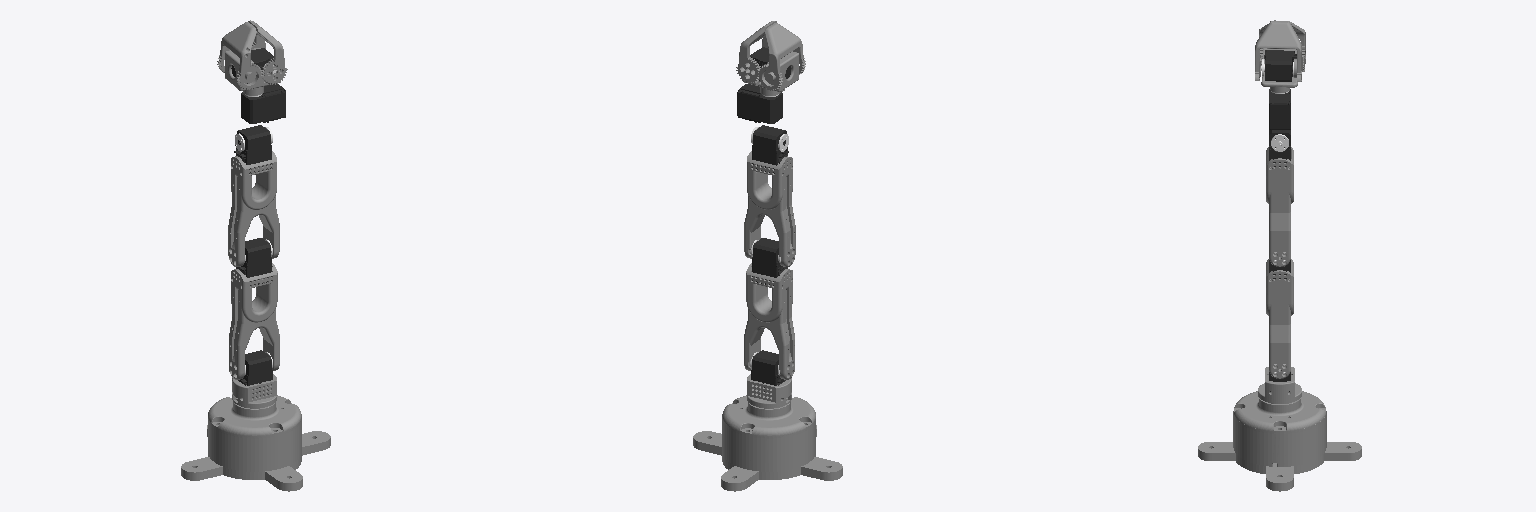
The robot description file, URDF, robot "robot_urdf":
<?xml version="1.0" ?>
<!-- Generated using onshape-to-robot -->
<!-- Onshape https://cad.onshape.com/documents/b1be9314d341256813a88427/w/ef79e5b8cf85c1610447e659/e/989417b967111cc75a0644fe -->
<robot name="robot_urdf">

  <mujoco>
    <compiler meshdir="assets/" strippath="false" fusestatic="false"/>
  </mujoco>

  <!-- Link base_assembly -->
  <link name="base_assembly">
    <inertial>
      <origin xyz="0 0 0" rpy="0 0 0"/>
      <mass value="1e-09"/>
      <inertia ixx="1e-09" ixy="0" ixz="0" iyy="1e-09" iyz="0" izz="1e-09"/>
    </inertial>
    <!-- Part base_top -->
    <visual>
      <origin xyz="0.0125 0 0.05" rpy="0 -0 0"/>
      <geometry>
        <mesh filename="base_top.stl"/>
      </geometry>
      <material name="base_top_material">
        <color rgba="0.627451 0.627451 0.627451 1"/>
      </material>
    </visual>
    <collision>
      <origin xyz="0.0125 0 0.05" rpy="0 -0 0"/>
      <geometry>
        <mesh filename="base_top.stl"/>
      </geometry>
    </collision>
    <!-- Part ac1 -->
    <visual>
      <origin xyz="0.0125 0 0.0351" rpy="-0 0 -3.14159"/>
      <geometry>
        <mesh filename="ac1.stl"/>
      </geometry>
      <material name="ac1_material">
        <color rgba="0.960784 0.960784 0.964706 1"/>
      </material>
    </visual>
    <collision>
      <origin xyz="0.0125 0 0.0351" rpy="-0 0 -3.14159"/>
      <geometry>
        <mesh filename="ac1.stl"/>
      </geometry>
    </collision>
    <!-- Part base_plate -->
    <visual>
      <origin xyz="0 0 0" rpy="0 -0 0"/>
      <geometry>
        <mesh filename="base_plate.stl"/>
      </geometry>
      <material name="base_plate_material">
        <color rgba="0.627451 0.627451 0.627451 1"/>
      </material>
    </visual>
    <collision>
      <origin xyz="0 0 0" rpy="0 -0 0"/>
      <geometry>
        <mesh filename="base_plate.stl"/>
      </geometry>
    </collision>
    <!-- Part base_link -->
    <visual>
      <origin xyz="0.0125 0 0" rpy="0 -0 0"/>
      <geometry>
        <mesh filename="base_link.stl"/>
      </geometry>
      <material name="base_link_material">
        <color rgba="0.627451 0.627451 0.627451 1"/>
      </material>
    </visual>
    <collision>
      <origin xyz="0.0125 0 0" rpy="0 -0 0"/>
      <geometry>
        <mesh filename="base_link.stl"/>
      </geometry>
    </collision>
    <!-- Part main -->
    <visual>
      <origin xyz="0.0125 0 0.0339" rpy="0 -0 3.14159"/>
      <geometry>
        <mesh filename="main.stl"/>
      </geometry>
      <material name="main_material">
        <color rgba="0.247059 0.247059 0.247059 1"/>
      </material>
    </visual>
    <collision>
      <origin xyz="0.0125 0 0.0339" rpy="0 -0 3.14159"/>
      <geometry>
        <mesh filename="main.stl"/>
      </geometry>
    </collision>
  </link>
  <!-- Link shoulder_assmebly -->
  <link name="shoulder_assmebly">
    <inertial>
      <origin xyz="0 0 0" rpy="0 0 0"/>
      <mass value="1e-09"/>
      <inertia ixx="1e-09" ixy="0" ixz="0" iyy="1e-09" iyz="0" izz="1e-09"/>
    </inertial>
    <!-- Part base_joint -->
    <visual>
      <origin xyz="0 -0 0" rpy="-3.14159 -0 3.14159"/>
      <geometry>
        <mesh filename="base_joint.stl"/>
      </geometry>
      <material name="base_joint_material">
        <color rgba="0.627451 0.627451 0.627451 1"/>
      </material>
    </visual>
    <collision>
      <origin xyz="0 -0 0" rpy="-3.14159 -0 3.14159"/>
      <geometry>
        <mesh filename="base_joint.stl"/>
      </geometry>
    </collision>
    <!-- Part main_2 -->
    <visual>
      <origin xyz="0.00015 -0 -0.04896" rpy="-3.14159 1.5708 0"/>
      <geometry>
        <mesh filename="main.stl"/>
      </geometry>
      <material name="main_2_material">
        <color rgba="0.247059 0.247059 0.247059 1"/>
      </material>
    </visual>
    <collision>
      <origin xyz="0.00015 -0 -0.04896" rpy="-3.14159 1.5708 0"/>
      <geometry>
        <mesh filename="main.stl"/>
      </geometry>
    </collision>
    <!-- Part ac2 -->
    <visual>
      <origin xyz="0.00075 -0 -0.04896" rpy="-3.14159 1.5708 0"/>
      <geometry>
        <mesh filename="ac2.stl"/>
      </geometry>
      <material name="ac2_material">
        <color rgba="0.960784 0.960784 0.964706 1"/>
      </material>
    </visual>
    <collision>
      <origin xyz="0.00075 -0 -0.04896" rpy="-3.14159 1.5708 0"/>
      <geometry>
        <mesh filename="ac2.stl"/>
      </geometry>
    </collision>
    <!-- Part shoulder_link -->
    <visual>
      <origin xyz="0 -0 -0.0193" rpy="-3.14159 0 3.14159"/>
      <geometry>
        <mesh filename="shoulder_link.stl"/>
      </geometry>
      <material name="shoulder_link_material">
        <color rgba="0.627451 0.627451 0.627451 1"/>
      </material>
    </visual>
    <collision>
      <origin xyz="0 -0 -0.0193" rpy="-3.14159 0 3.14159"/>
      <geometry>
        <mesh filename="shoulder_link.stl"/>
      </geometry>
    </collision>
    <!-- Part ac1_2 -->
    <visual>
      <origin xyz="0.0002 -0 -0.04896" rpy="-3.14159 1.5708 0"/>
      <geometry>
        <mesh filename="ac1.stl"/>
      </geometry>
      <material name="ac1_2_material">
        <color rgba="0.960784 0.960784 0.964706 1"/>
      </material>
    </visual>
    <collision>
      <origin xyz="0.0002 -0 -0.04896" rpy="-3.14159 1.5708 0"/>
      <geometry>
        <mesh filename="ac1.stl"/>
      </geometry>
    </collision>
  </link>
  <!-- Link arm_link_assembly -->
  <link name="arm_link_assembly">
    <inertial>
      <origin xyz="0 0 0" rpy="0 0 0"/>
      <mass value="1e-09"/>
      <inertia ixx="1e-09" ixy="0" ixz="0" iyy="1e-09" iyz="0" izz="1e-09"/>
    </inertial>
    <!-- Part ac1_3 -->
    <visual>
      <origin xyz="0.1227 -8.02902e-05 -0.000296447" rpy="-0 0 0"/>
      <geometry>
        <mesh filename="ac1.stl"/>
      </geometry>
      <material name="ac1_3_material">
        <color rgba="0.960784 0.960784 0.964706 1"/>
      </material>
    </visual>
    <collision>
      <origin xyz="0.1227 -8.02902e-05 -0.000296447" rpy="-0 0 0"/>
      <geometry>
        <mesh filename="ac1.stl"/>
      </geometry>
    </collision>
    <!-- Part main_3 -->
    <visual>
      <origin xyz="0.1227 -8.02902e-05 -0.000246447" rpy="-0 0 0"/>
      <geometry>
        <mesh filename="main.stl"/>
      </geometry>
      <material name="main_3_material">
        <color rgba="0.247059 0.247059 0.247059 1"/>
      </material>
    </visual>
    <collision>
      <origin xyz="0.1227 -8.02902e-05 -0.000246447" rpy="-0 0 0"/>
      <geometry>
        <mesh filename="main.stl"/>
      </geometry>
    </collision>
    <!-- Part arm_link -->
    <visual>
      <origin xyz="0.053 -0.012 -9.64466e-05" rpy="-1.5708 -0 0"/>
      <geometry>
        <mesh filename="arm_link.stl"/>
      </geometry>
      <material name="arm_link_material">
        <color rgba="0.627451 0.627451 0.627451 1"/>
      </material>
    </visual>
    <collision>
      <origin xyz="0.053 -0.012 -9.64466e-05" rpy="-1.5708 -0 0"/>
      <geometry>
        <mesh filename="arm_link.stl"/>
      </geometry>
    </collision>
    <!-- Part ac2_2 -->
    <visual>
      <origin xyz="0.1227 -8.02902e-05 -0.000846447" rpy="-0 0 0"/>
      <geometry>
        <mesh filename="ac2.stl"/>
      </geometry>
      <material name="ac2_2_material">
        <color rgba="0.960784 0.960784 0.964706 1"/>
      </material>
    </visual>
    <collision>
      <origin xyz="0.1227 -8.02902e-05 -0.000846447" rpy="-0 0 0"/>
      <geometry>
        <mesh filename="ac2.stl"/>
      </geometry>
    </collision>
  </link>
  <!-- Link arm_link_assembly_2 -->
  <link name="arm_link_assembly_2">
    <inertial>
      <origin xyz="0 0 0" rpy="0 0 0"/>
      <mass value="1e-09"/>
      <inertia ixx="1e-09" ixy="0" ixz="0" iyy="1e-09" iyz="0" izz="1e-09"/>
    </inertial>
    <!-- Part ac1_4 -->
    <visual>
      <origin xyz="0.1227 -8.02902e-05 3.44557e-05" rpy="0 -0 0"/>
      <geometry>
        <mesh filename="ac1.stl"/>
      </geometry>
      <material name="ac1_4_material">
        <color rgba="0.960784 0.960784 0.964706 1"/>
      </material>
    </visual>
    <collision>
      <origin xyz="0.1227 -8.02902e-05 3.44557e-05" rpy="0 -0 0"/>
      <geometry>
        <mesh filename="ac1.stl"/>
      </geometry>
    </collision>
    <!-- Part main_4 -->
    <visual>
      <origin xyz="0.1227 -8.02902e-05 8.44557e-05" rpy="-0 -0 0"/>
      <geometry>
        <mesh filename="main.stl"/>
      </geometry>
      <material name="main_4_material">
        <color rgba="0.247059 0.247059 0.247059 1"/>
      </material>
    </visual>
    <collision>
      <origin xyz="0.1227 -8.02902e-05 8.44557e-05" rpy="-0 -0 0"/>
      <geometry>
        <mesh filename="main.stl"/>
      </geometry>
    </collision>
    <!-- Part arm_link_2 -->
    <visual>
      <origin xyz="0.053 -0.012 0.000234456" rpy="-1.5708 -0 0"/>
      <geometry>
        <mesh filename="arm_link.stl"/>
      </geometry>
      <material name="arm_link_2_material">
        <color rgba="0.627451 0.627451 0.627451 1"/>
      </material>
    </visual>
    <collision>
      <origin xyz="0.053 -0.012 0.000234456" rpy="-1.5708 -0 0"/>
      <geometry>
        <mesh filename="arm_link.stl"/>
      </geometry>
    </collision>
    <!-- Part ac2_3 -->
    <visual>
      <origin xyz="0.1227 -8.02902e-05 -0.000515544" rpy="0 -0 0"/>
      <geometry>
        <mesh filename="ac2.stl"/>
      </geometry>
      <material name="ac2_3_material">
        <color rgba="0.960784 0.960784 0.964706 1"/>
      </material>
    </visual>
    <collision>
      <origin xyz="0.1227 -8.02902e-05 -0.000515544" rpy="0 -0 0"/>
      <geometry>
        <mesh filename="ac2.stl"/>
      </geometry>
    </collision>
  </link>
  <!-- Link wrist_assembly -->
  <link name="wrist_assembly">
    <inertial>
      <origin xyz="0 0 0" rpy="0 0 0"/>
      <mass value="1e-09"/>
      <inertia ixx="1e-09" ixy="0" ixz="0" iyy="1e-09" iyz="0" izz="1e-09"/>
    </inertial>
    <!-- Part ac1_5 -->
    <visual>
      <origin xyz="0.0389 0.00681535 -0.0104786" rpy="-1.5708 -0.994135 -1.5708"/>
      <geometry>
        <mesh filename="ac1.stl"/>
      </geometry>
      <material name="ac1_5_material">
        <color rgba="0.960784 0.960784 0.964706 1"/>
      </material>
    </visual>
    <collision>
      <origin xyz="0.0389 0.00681535 -0.0104786" rpy="-1.5708 -0.994135 -1.5708"/>
      <geometry>
        <mesh filename="ac1.stl"/>
      </geometry>
    </collision>
    <!-- Part wrist_link___recovered -->
    <visual>
      <origin xyz="0.055 -0.012 0" rpy="-1.5708 -0 0"/>
      <geometry>
        <mesh filename="wrist_link___recovered.stl"/>
      </geometry>
      <material name="wrist_link___recovered_material">
        <color rgba="0.627451 0.627451 0.627451 1"/>
      </material>
    </visual>
    <collision>
      <origin xyz="0.055 -0.012 0" rpy="-1.5708 -0 0"/>
      <geometry>
        <mesh filename="wrist_link___recovered.stl"/>
      </geometry>
    </collision>
    <!-- Part main_5 -->
    <visual>
      <origin xyz="0.0392 0 -0.0125" rpy="-3.14159 -1.5708 0"/>
      <geometry>
        <mesh filename="main.stl"/>
      </geometry>
      <material name="main_5_material">
        <color rgba="0.247059 0.247059 0.247059 1"/>
      </material>
    </visual>
    <collision>
      <origin xyz="0.0392 0 -0.0125" rpy="-3.14159 -1.5708 0"/>
      <geometry>
        <mesh filename="main.stl"/>
      </geometry>
    </collision>
  </link>
  <!-- Link gripper_assembly -->
  <link name="gripper_assembly">
    <inertial>
      <origin xyz="0 0 0" rpy="0 0 0"/>
      <mass value="1e-09"/>
      <inertia ixx="1e-09" ixy="0" ixz="0" iyy="1e-09" iyz="0" izz="1e-09"/>
    </inertial>
    <!-- Part gripper_base -->
    <visual>
      <origin xyz="-0.0109248 0.0149298 -0.0300671" rpy="1.5708 -0 0.631718"/>
      <geometry>
        <mesh filename="gripper_base.stl"/>
      </geometry>
      <material name="gripper_base_material">
        <color rgba="0.627451 0.627451 0.627451 1"/>
      </material>
    </visual>
    <collision>
      <origin xyz="-0.0109248 0.0149298 -0.0300671" rpy="1.5708 -0 0.631718"/>
      <geometry>
        <mesh filename="gripper_base.stl"/>
      </geometry>
    </collision>
    <!-- Part main_6 -->
    <visual>
      <origin xyz="0.000413372 -0.00056491 -0.0300671" rpy="-1.5708 0 -2.50987"/>
      <geometry>
        <mesh filename="main.stl"/>
      </geometry>
      <material name="main_6_material">
        <color rgba="0.247059 0.247059 0.247059 1"/>
      </material>
    </visual>
    <collision>
      <origin xyz="0.000413372 -0.00056491 -0.0300671" rpy="-1.5708 0 -2.50987"/>
      <geometry>
        <mesh filename="main.stl"/>
      </geometry>
    </collision>
    <!-- Part ac1_6 -->
    <visual>
      <origin xyz="0.000236213 -0.000322806 -0.0300671" rpy="-1.5708 0 -2.50987"/>
      <geometry>
        <mesh filename="ac1.stl"/>
      </geometry>
      <material name="ac1_6_material">
        <color rgba="0.960784 0.960784 0.964706 1"/>
      </material>
    </visual>
    <collision>
      <origin xyz="0.000236213 -0.000322806 -0.0300671" rpy="-1.5708 0 -2.50987"/>
      <geometry>
        <mesh filename="ac1.stl"/>
      </geometry>
    </collision>
    <!-- Part ac2_4 -->
    <visual>
      <origin xyz="5.90532e-05 -8.07014e-05 -0.0300671" rpy="-1.5708 0 -2.50987"/>
      <geometry>
        <mesh filename="ac2.stl"/>
      </geometry>
      <material name="ac2_4_material">
        <color rgba="0.960784 0.960784 0.964706 1"/>
      </material>
    </visual>
    <collision>
      <origin xyz="5.90532e-05 -8.07014e-05 -0.0300671" rpy="-1.5708 0 -2.50987"/>
      <geometry>
        <mesh filename="ac2.stl"/>
      </geometry>
    </collision>
  </link>
  <!-- Link gripper_left_assembly -->
  <link name="gripper_left_assembly">
    <inertial>
      <origin xyz="0 0 0" rpy="0 0 0"/>
      <mass value="1e-09"/>
      <inertia ixx="1e-09" ixy="0" ixz="0" iyy="1e-09" iyz="0" izz="1e-09"/>
    </inertial>
    <!-- Part gripper_left -->
    <visual>
      <origin xyz="0 0 0.0453" rpy="-3.14159 -0 0"/>
      <geometry>
        <mesh filename="gripper_left.stl"/>
      </geometry>
      <material name="gripper_left_material">
        <color rgba="0.627451 0.627451 0.627451 1"/>
      </material>
    </visual>
    <collision>
      <origin xyz="0 0 0.0453" rpy="-3.14159 -0 0"/>
      <geometry>
        <mesh filename="gripper_left.stl"/>
      </geometry>
    </collision>
  </link>
  <!-- Joint from gripper_assembly to gripper_left_assembly -->
  <joint name="gripper_left" type="revolute">
    <origin xyz="0.00133856 -0.0245467 -0.0309825" rpy="1.5708 0 -2.50987"/>
    <parent link="gripper_assembly"/>
    <child link="gripper_left_assembly"/>
    <axis xyz="0 0 1"/>
    <limit effort="10" velocity="10" lower="-3.141592653589793" upper="3.141592653589793"/>
  </joint>
  <!-- Link gripper_right_assembly -->
  <link name="gripper_right_assembly">
    <inertial>
      <origin xyz="0 0 0" rpy="0 0 0"/>
      <mass value="1e-09"/>
      <inertia ixx="1e-09" ixy="0" ixz="0" iyy="1e-09" iyz="0" izz="1e-09"/>
    </inertial>
    <!-- Part gripper_right -->
    <visual>
      <origin xyz="0 -0 0.051019" rpy="-3.14159 0 3.14159"/>
      <geometry>
        <mesh filename="gripper_right.stl"/>
      </geometry>
      <material name="gripper_right_material">
        <color rgba="0.627451 0.627451 0.627451 1"/>
      </material>
    </visual>
    <collision>
      <origin xyz="0 -0 0.051019" rpy="-3.14159 0 3.14159"/>
      <geometry>
        <mesh filename="gripper_right.stl"/>
      </geometry>
    </collision>
    <!-- Part gripper_right_part -->
    <visual>
      <origin xyz="0.0509419 -0 0" rpy="-0 0 0"/>
      <geometry>
        <mesh filename="gripper_right_part.stl"/>
      </geometry>
      <material name="gripper_right_part_material">
        <color rgba="0.627451 0.627451 0.627451 1"/>
      </material>
    </visual>
    <collision>
      <origin xyz="0.0509419 -0 0" rpy="-0 0 0"/>
      <geometry>
        <mesh filename="gripper_right_part.stl"/>
      </geometry>
    </collision>
  </link>
  <!-- Joint from gripper_assembly to gripper_right_assembly -->
  <joint name="gripper_right" type="revolute">
    <origin xyz="0.0270171 -0.0105891 -0.0300671" rpy="-1.5708 -0 0.631718"/>
    <parent link="gripper_assembly"/>
    <child link="gripper_right_assembly"/>
    <axis xyz="0 0 1"/>
    <limit effort="10" velocity="10" lower="-3.141592653589793" upper="3.141592653589793"/>
  </joint>
  <!-- Joint from wrist_assembly to gripper_assembly -->
  <joint name="wrist_roll" type="revolute">
    <origin xyz="0.0575 0 -0" rpy="1.5708 -0.994135 -1.5708"/>
    <parent link="wrist_assembly"/>
    <child link="gripper_assembly"/>
    <axis xyz="0 0 1"/>
    <limit effort="10" velocity="10" lower="-3.141592653589793" upper="3.141592653589793"/>
  </joint>
  <!-- Joint from arm_link_assembly_2 to wrist_assembly -->
  <joint name="wrist_pitch" type="revolute">
    <origin xyz="0.1352 -8.02902e-05 -0.000365544" rpy="3.14159 -0 0"/>
    <parent link="arm_link_assembly_2"/>
    <child link="wrist_assembly"/>
    <axis xyz="0 0 1"/>
    <limit effort="10" velocity="10" lower="-3.141592653589793" upper="3.141592653589793"/>
  </joint>
  <!-- Joint from arm_link_assembly to arm_link_assembly_2 -->
  <joint name="elbow" type="revolute">
    <origin xyz="0.1352 -8.02902e-05 -0.000696447" rpy="-0 0 0"/>
    <parent link="arm_link_assembly"/>
    <child link="arm_link_assembly_2"/>
    <axis xyz="0 0 1"/>
    <limit effort="10" velocity="10" lower="-3.141592653589793" upper="3.141592653589793"/>
  </joint>
  <!-- Joint from shoulder_assmebly to arm_link_assembly -->
  <joint name="shoulder" type="revolute">
    <origin xyz="0.0006 0 -0.06146" rpy="-3.14159 1.5708 0"/>
    <parent link="shoulder_assmebly"/>
    <child link="arm_link_assembly"/>
    <axis xyz="0 0 1"/>
    <limit effort="10" velocity="10" lower="-3.141592653589793" upper="3.141592653589793"/>
  </joint>
  <!-- Joint from base_assembly to shoulder_assmebly -->
  <joint name="base" type="revolute">
    <origin xyz="0 -0 0.0537" rpy="3.14159 0 -3.14159"/>
    <parent link="base_assembly"/>
    <child link="shoulder_assmebly"/>
    <axis xyz="0 0 1"/>
    <limit effort="10" velocity="10" lower="-3.141592653589793" upper="3.141592653589793"/>
  </joint>
</robot>

--- Facts derived from the render (not from the file) ---
Views: 3 orthographic renders of the robot side by side, from view 1: azimuth 30°, elevation 25°; view 2: azimuth 150°, elevation 25°; view 3: azimuth 270°, elevation 25°.
Model robot_urdf with 8 links and 7 joints (7 revolute), rooted at base_assembly, posed all joints at 0.
Links seen in each view (by area): view 1: base_assembly, arm_link_assembly_2, arm_link_assembly, shoulder_assmebly, gripper_right_assembly, wrist_assembly, gripper_assembly, gripper_left_assembly; view 2: base_assembly, arm_link_assembly_2, arm_link_assembly, shoulder_assmebly, gripper_right_assembly, wrist_assembly, gripper_assembly, gripper_left_assembly; view 3: base_assembly, arm_link_assembly_2, arm_link_assembly, gripper_left_assembly, gripper_assembly, shoulder_assmebly, wrist_assembly.
Link boxes in pixels (x1,y1,x2,y2): base_assembly: (181,395,330,491); arm_link_assembly_2: (228,125,279,266); arm_link_assembly: (229,238,279,379); shoulder_assmebly: (232,350,276,407); gripper_right_assembly: (217,22,262,89); wrist_assembly: (241,84,285,123); gripper_assembly: (225,48,279,95); gripper_left_assembly: (248,20,287,84); base_assembly: (693,395,842,491); arm_link_assembly_2: (744,125,795,266); arm_link_assembly: (744,238,794,379); shoulder_assmebly: (747,350,791,407); gripper_right_assembly: (758,23,805,90); wrist_assembly: (737,84,782,123); gripper_assembly: (743,47,798,95); gripper_left_assembly: (736,21,776,83); base_assembly: (1198,391,1361,491); arm_link_assembly_2: (1266,130,1293,266); arm_link_assembly: (1266,252,1293,378); gripper_left_assembly: (1255,21,1302,81); gripper_assembly: (1261,48,1297,92); shoulder_assmebly: (1258,364,1301,403); wrist_assembly: (1269,89,1290,129).
Size in the robot's own frame: 0.183 by 0.18 by 0.524 metres.
27 mesh visuals loaded from 14 distinct referenced files (13 binary STL); not drawn: 1 (reference not matched to a file when rendering).
